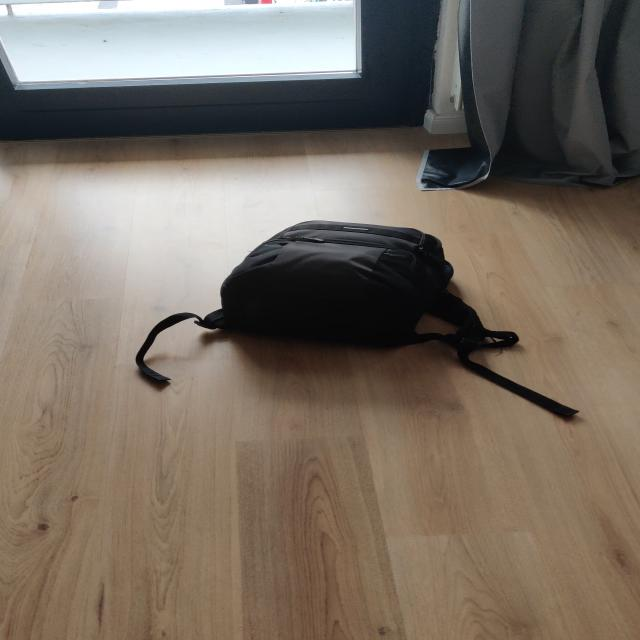backpack: (203, 217, 482, 353)
